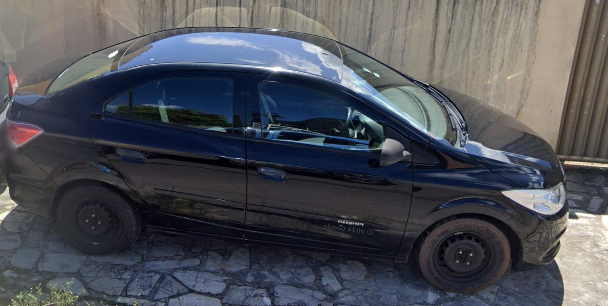car: (8, 24, 569, 286)
